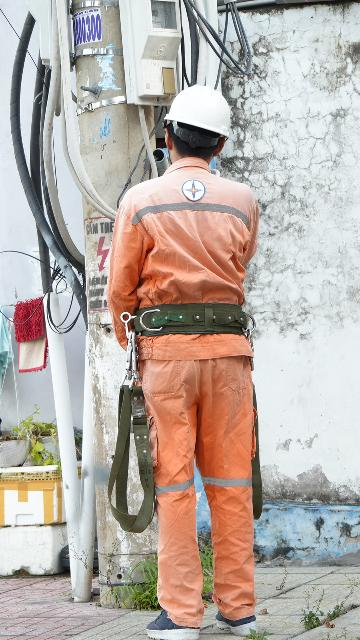harness: (127, 299, 274, 350)
helmet: (142, 77, 267, 148)
shoes: (143, 602, 210, 640), (216, 596, 260, 640)
